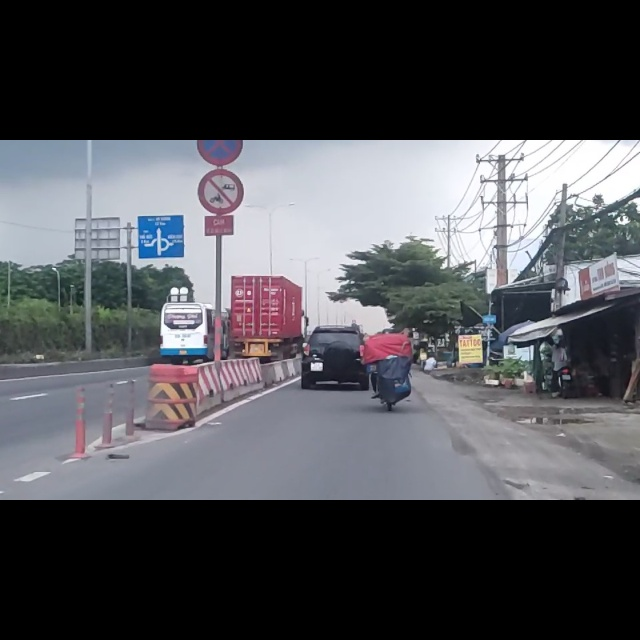bien_chi_dan: (196, 51, 246, 131), (195, 2, 244, 44)
